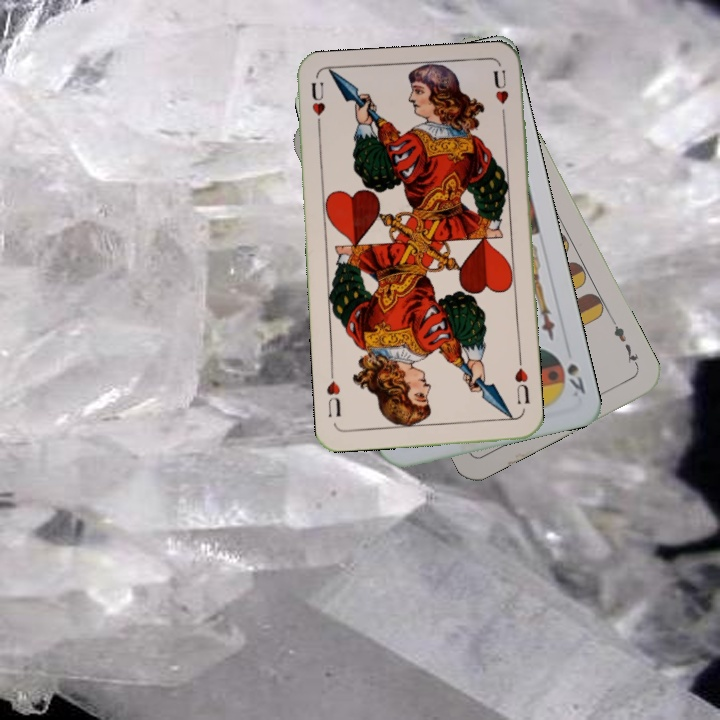E7: (608, 315, 642, 370)
HU: (307, 77, 328, 136), (510, 355, 532, 407)
SK: (563, 359, 588, 400)
